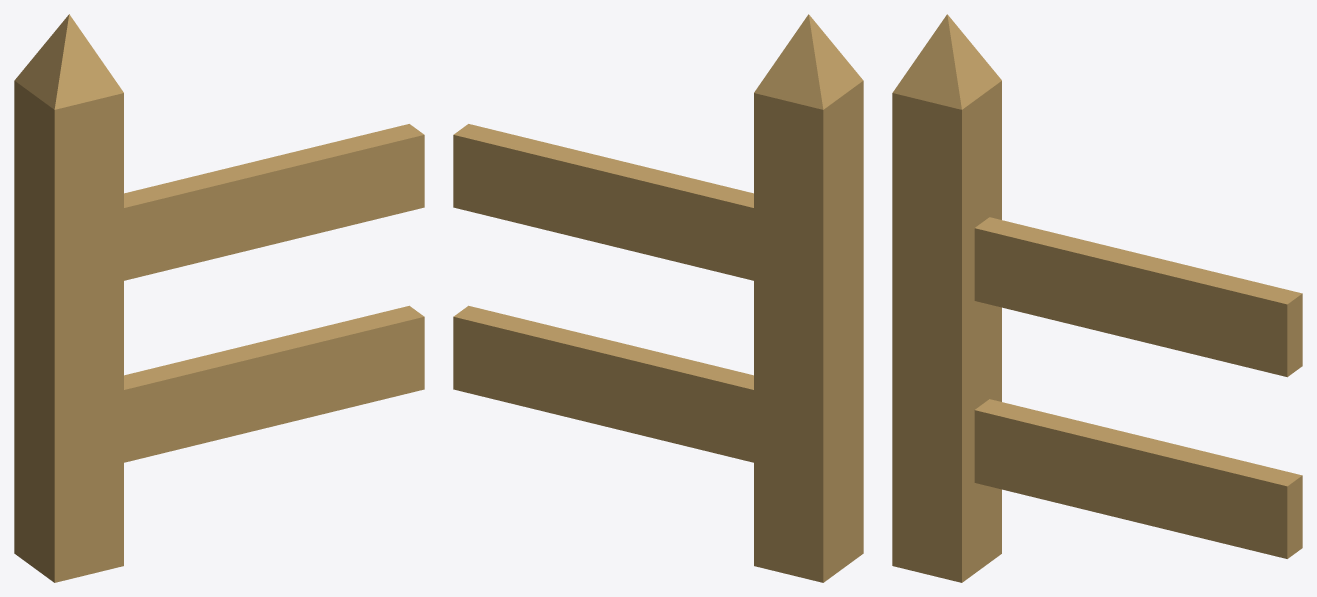
The model's file is fence-end-piece.glb.
3 views of the same model, side by side, from view 1: azimuth 30°, elevation 25°; view 2: azimuth 150°, elevation 25°; view 3: azimuth 330°, elevation 25° (orthographic).
Parts seen in each view (by area): view 1: fence-end-piece; view 2: fence-end-piece; view 3: fence-end-piece.
Part boxes in pixels (x1,y1,x2,y2): fence-end-piece: (14, 14, 424, 582); fence-end-piece: (453, 14, 863, 582); fence-end-piece: (892, 14, 1302, 582).
Size of the model in its own units: 1.1 by 1.5 by 0.2.
